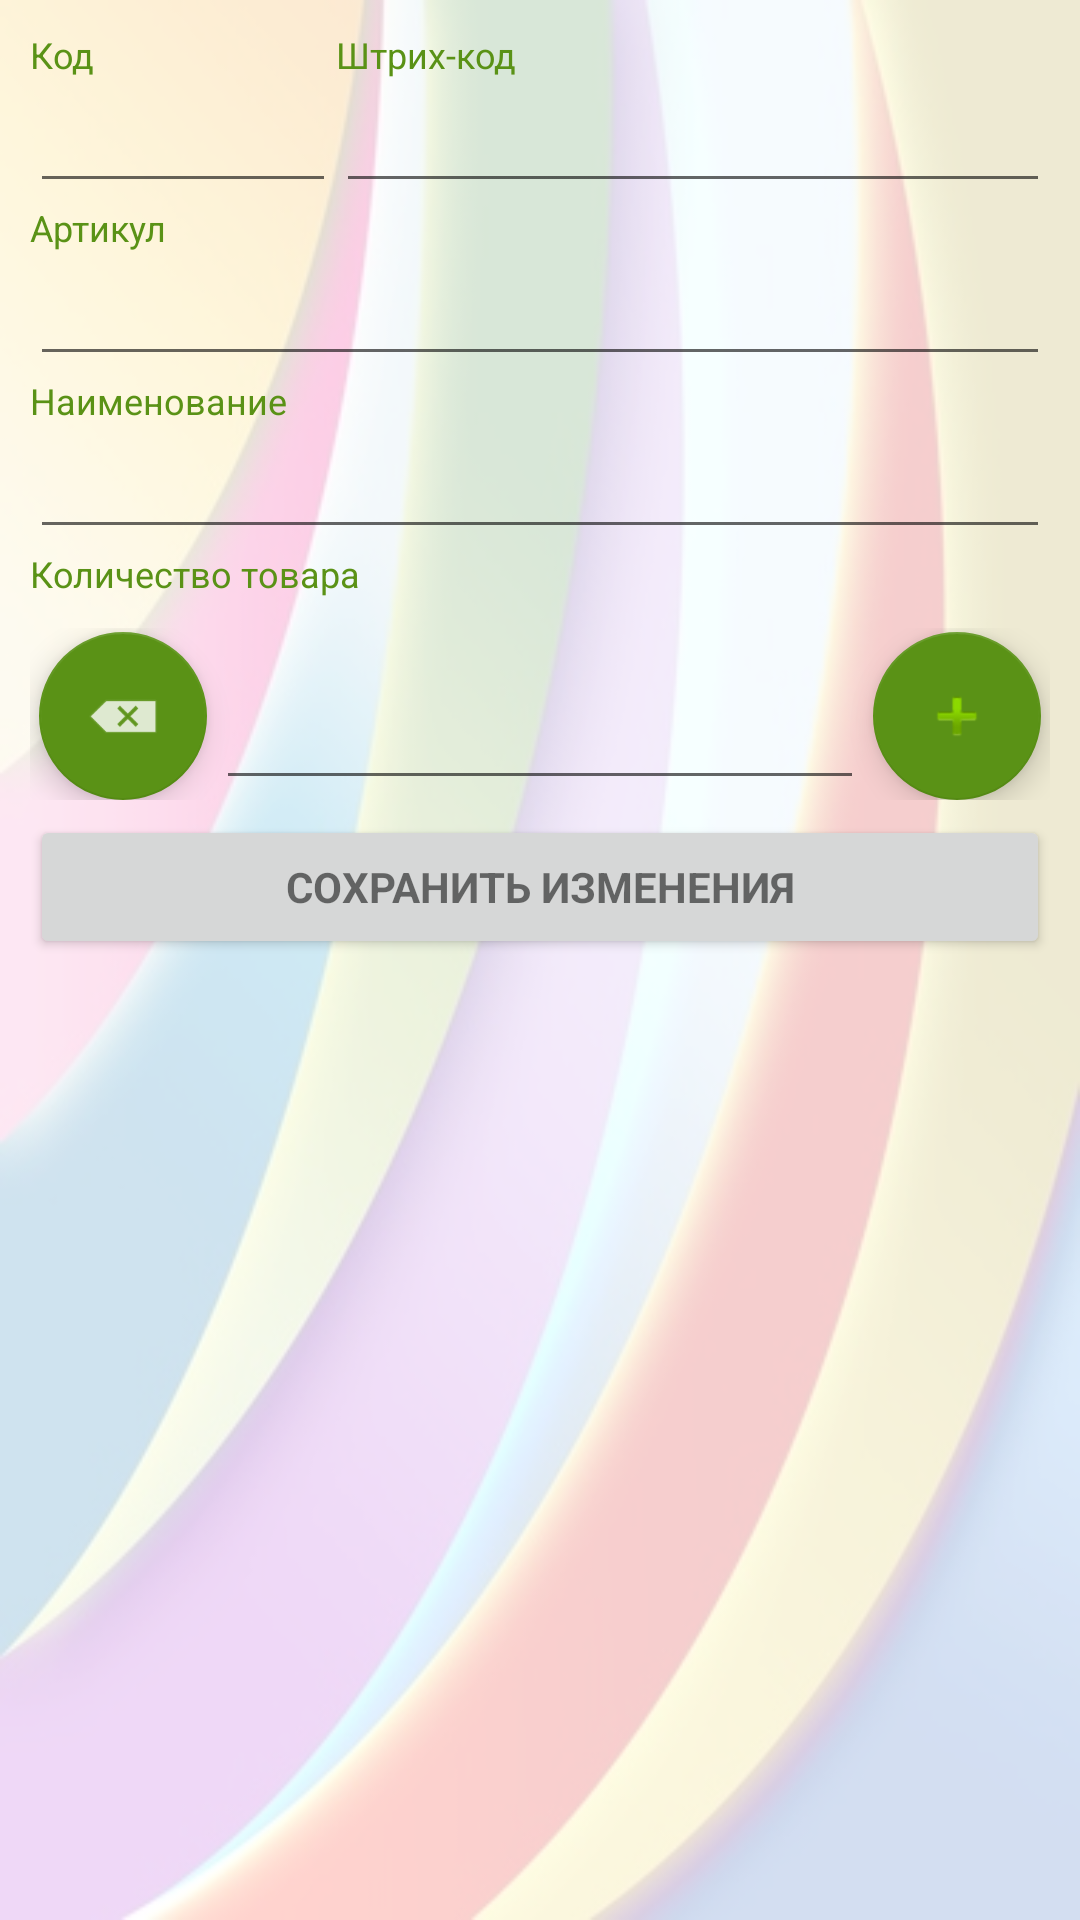

Point at icon controls on the screen. Image size 1080x1920, points as (x=x, y=y).
add: (x=957, y=716)
delete: (x=123, y=716)
